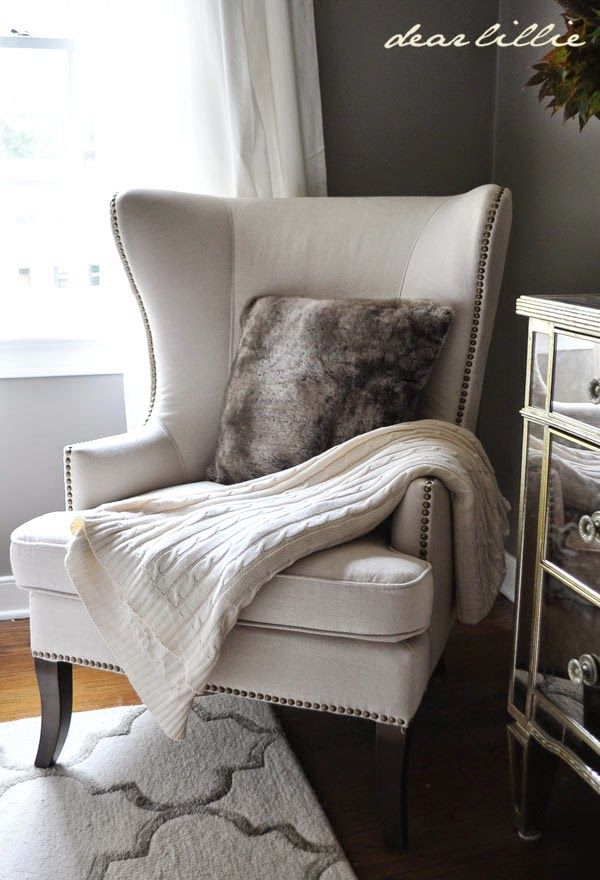chairs: (12, 176, 515, 835)
